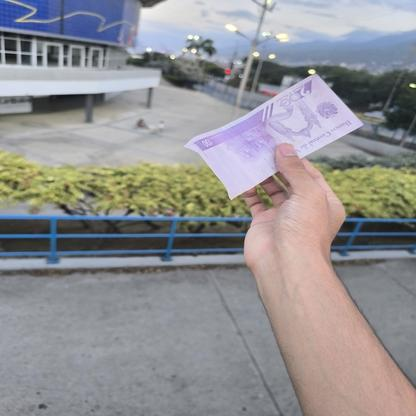one_hundred-back-vef: (182, 72, 364, 201)
